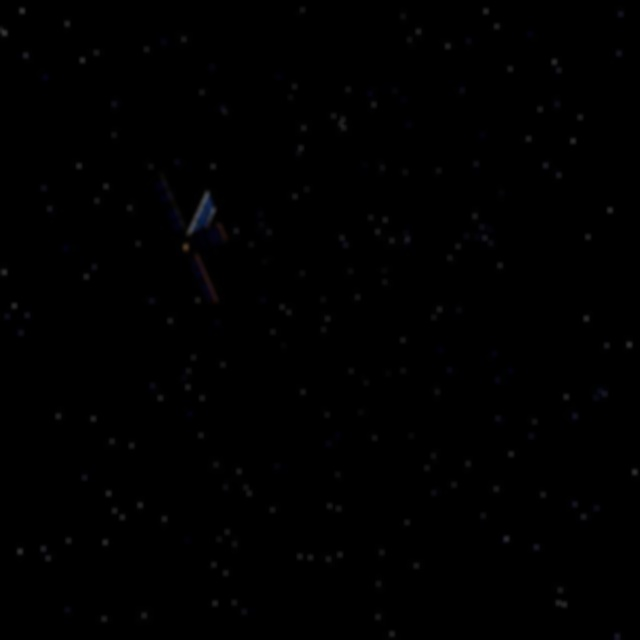satellite: (146, 164, 230, 314)
